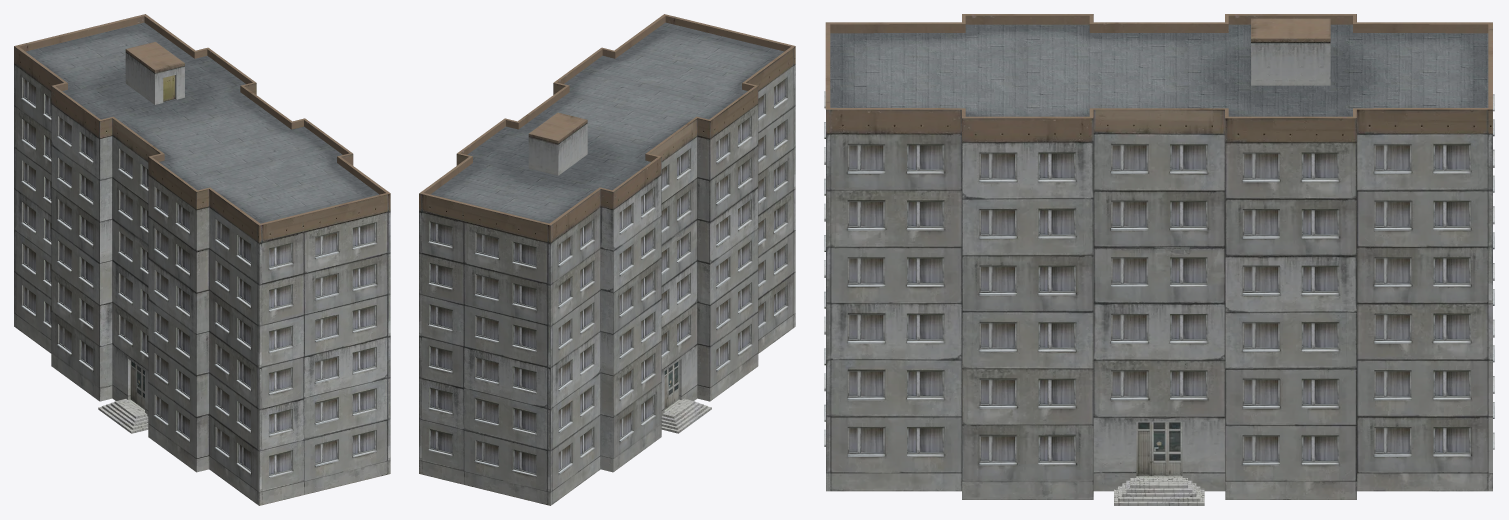
The model's file is house_lowpoly_8k.glb.
3 renders of one model, left to right at view 1: azimuth 30°, elevation 25°; view 2: azimuth 150°, elevation 25°; view 3: azimuth 270°, elevation 25°, orthographic. The views are drawn at different scales.
Visible parts, largest first — view 1: BUILDING_lambert1_0; view 2: BUILDING_lambert1_0; view 3: BUILDING_lambert1_0.
Boxes of the visible parts, x1,y1,x2,y2 form: BUILDING_lambert1_0: (14, 14, 390, 505); BUILDING_lambert1_0: (419, 14, 795, 505); BUILDING_lambert1_0: (824, 14, 1494, 505).
Size of the model in its own units: 0.6832 by 1.15 by 1.66.
1 material, 1 textured.
